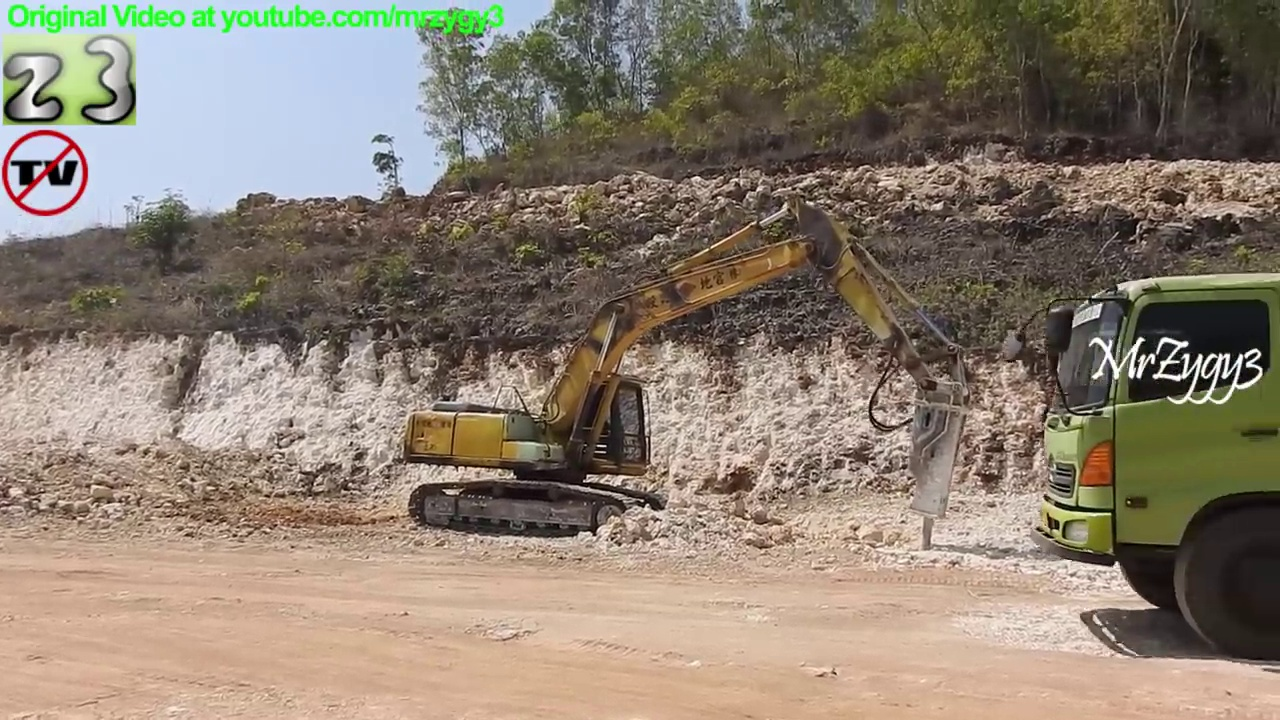excavator breaker: (393, 192, 979, 559)
truck: (1000, 244, 1280, 668)
